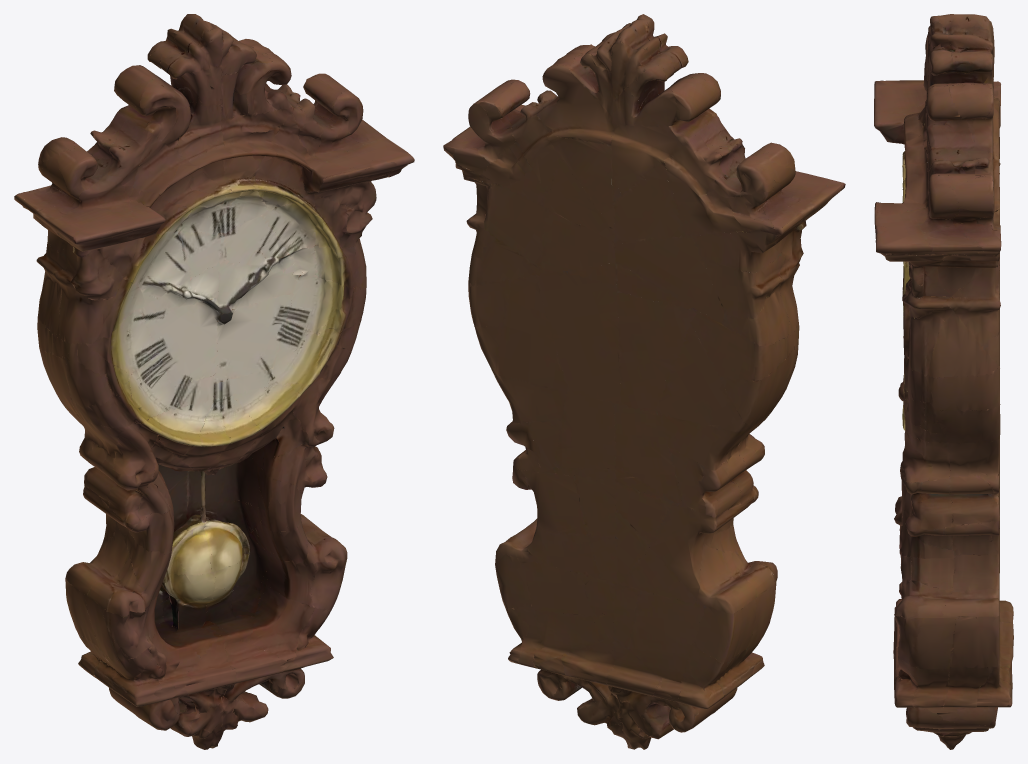
The model's file is clock2.glb.
3 views of the same model, side by side, from view 1: azimuth 30°, elevation 25°; view 2: azimuth 150°, elevation 25°; view 3: azimuth 270°, elevation 25° (orthographic).
Parts seen in each view (by area): view 1: Mesh_0; view 2: Mesh_0; view 3: Mesh_0.
Boxes of the visible parts, x1,y1,x2,y2 form: Mesh_0: (14, 14, 414, 749); Mesh_0: (443, 14, 845, 749); Mesh_0: (874, 14, 1013, 749).
Size of the model in its own units: 0.9714 by 1.99 by 0.3441.
1 material, 1 textured.
